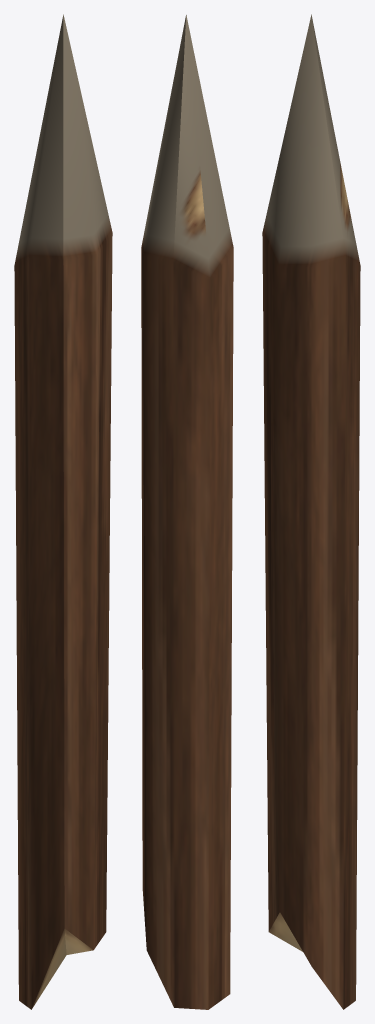
The model's file is Stake.fbx.
3 renders of one model, left to right at view 1: azimuth 90°, elevation 25°; view 2: azimuth 210°, elevation 25°; view 3: azimuth 270°, elevation 25°, orthographic.
Visible parts, largest first — view 1: Short Tree Branch.001; view 2: Short Tree Branch.001; view 3: Short Tree Branch.001.
Boxes of the visible parts, <box> form: Short Tree Branch.001: <box>14,14,112,1009</box>; Short Tree Branch.001: <box>141,15,233,1009</box>; Short Tree Branch.001: <box>262,14,360,1009</box>.
Size of the model in its own units: 0.024 by 0.2629 by 0.0237.
